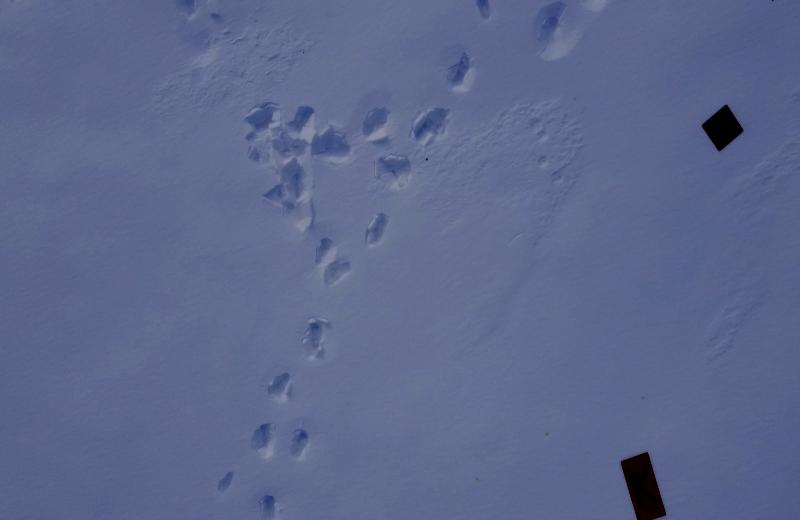Rectangle: (621, 451, 666, 520)
Square: (702, 104, 744, 156)
